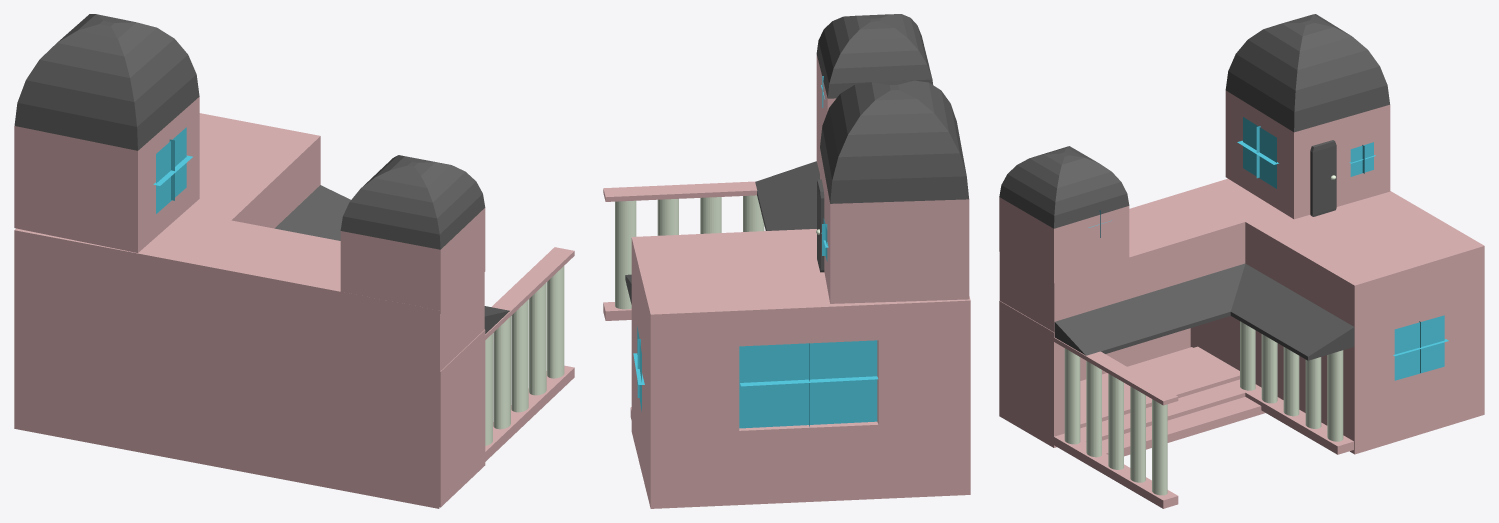
The model's file is Extracteur pierrre.fbx.
3 renders of one model, left to right at view 1: azimuth 30°, elevation 25°; view 2: azimuth 150°, elevation 25°; view 3: azimuth 270°, elevation 25°, orthographic. The views are drawn at different scales.
Visible parts, largest first — view 1: porte.001; view 2: porte.001; view 3: porte.001.
Boxes of the visible parts, box(x1,y1,x2,y2) form: porte.001: box(14, 14, 574, 508); porte.001: box(603, 14, 970, 508); porte.001: box(999, 14, 1484, 508).
Size of the model in its own units: 4.93 by 5.21 by 3.93.
